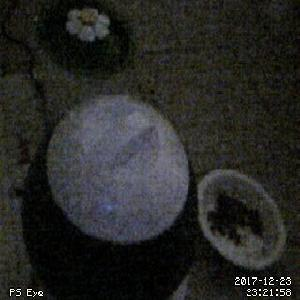fountain: (34, 1, 132, 78)
